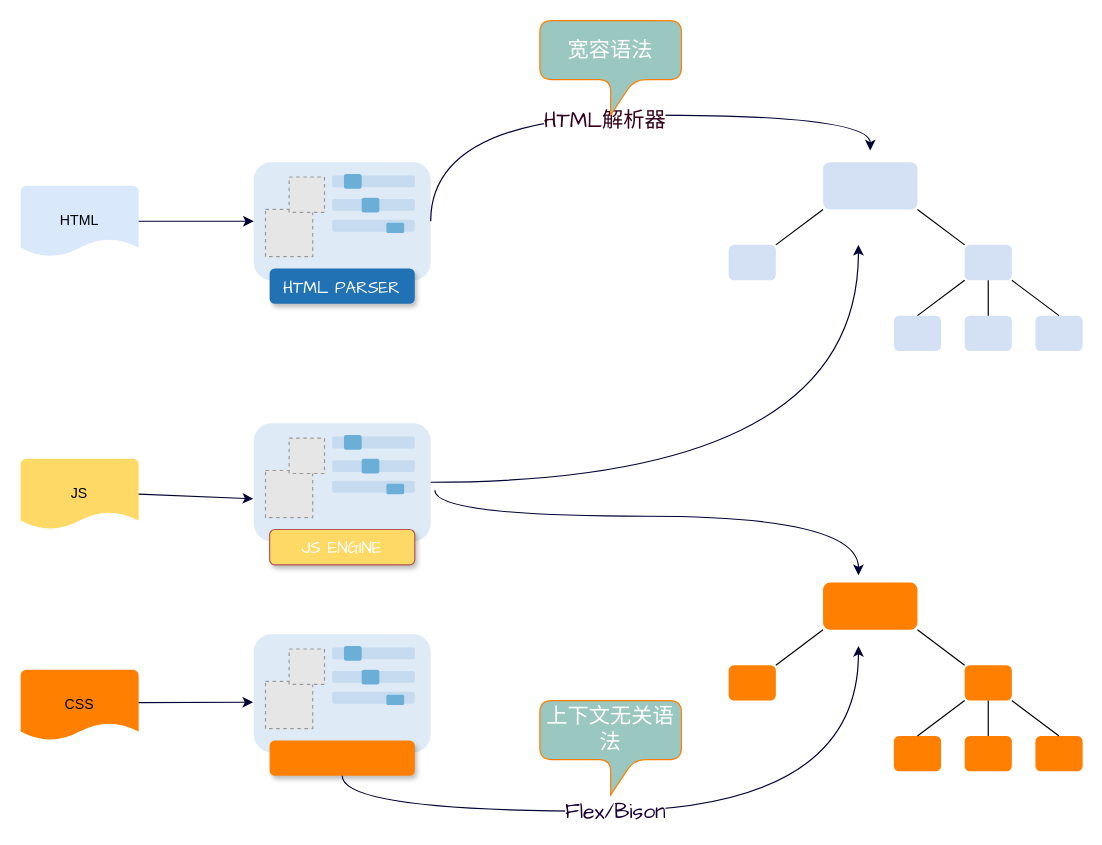
Image size: 1102x845. Some labels were removed from this diagram. Grey dashed boxes stand in for pictures. Here are the shapes that lost their labels. From the top down, the centre of each, then its label:
At point (869, 185): "DOM".
At point (869, 605): "CSSDOM".
At point (342, 759): "CSS PARSER".
